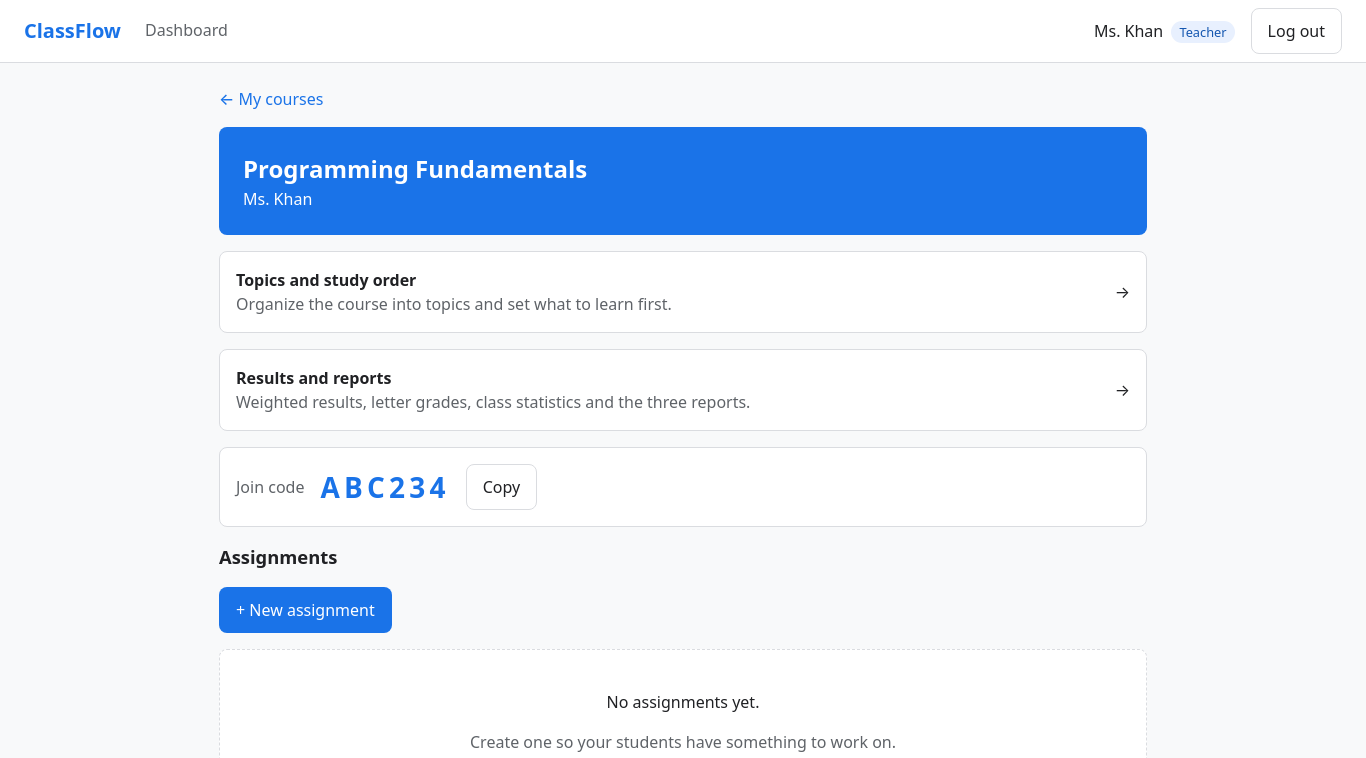
results and reports page (teacher) › is reached from the course page
Click the link "Results and reports".
click(683, 390)  # box left=219, top=349, right=1147, bottom=431
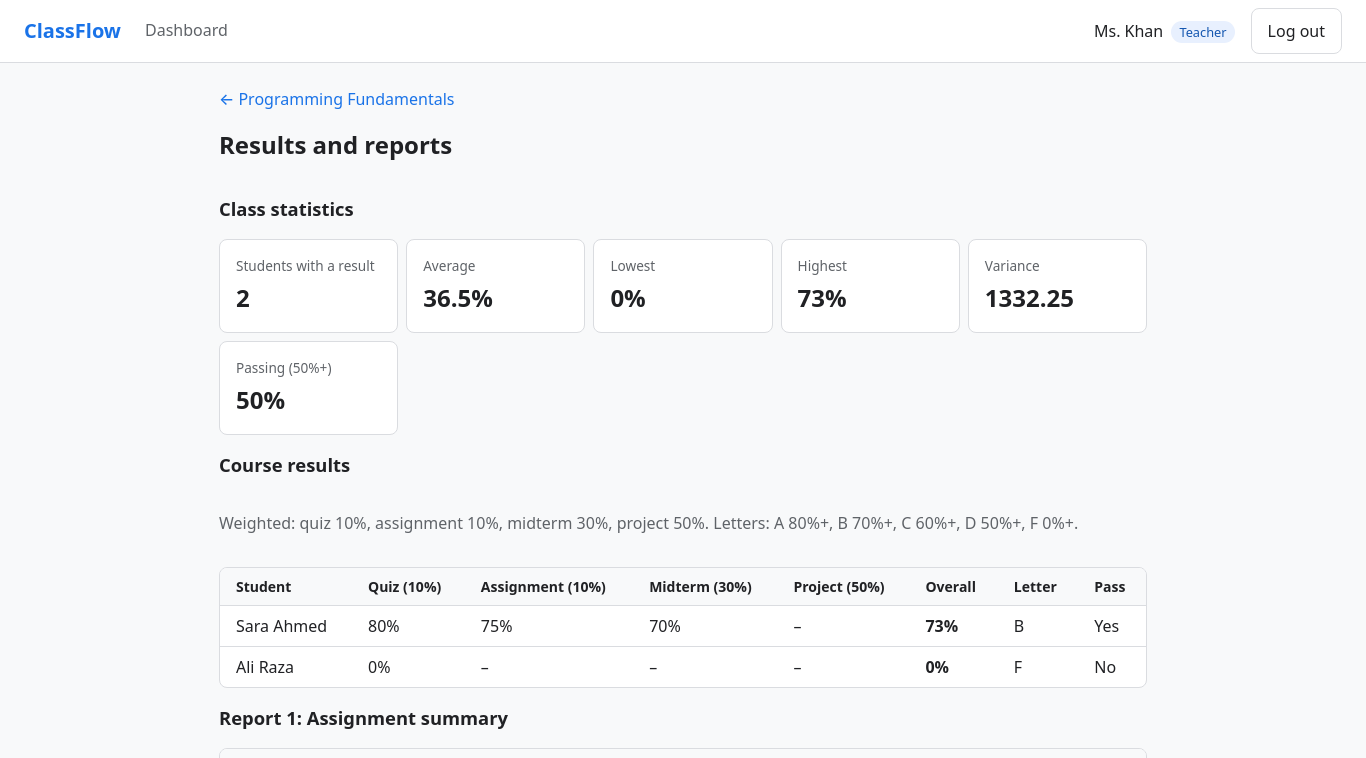
Check: the heading "Results and reports" is shown, box left=219, top=128, right=452, bottom=161
